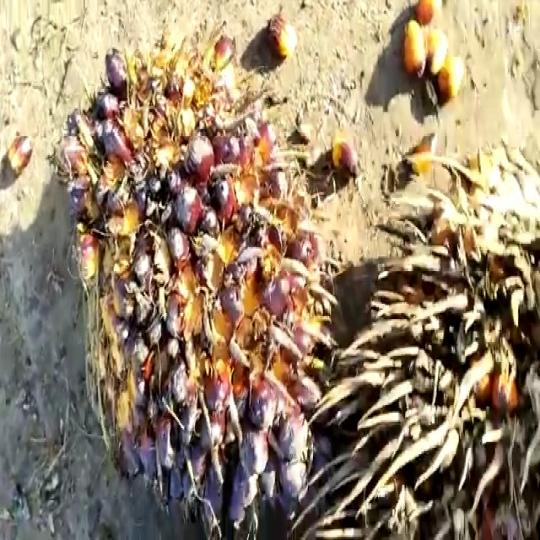masak: (62, 43, 354, 540)
